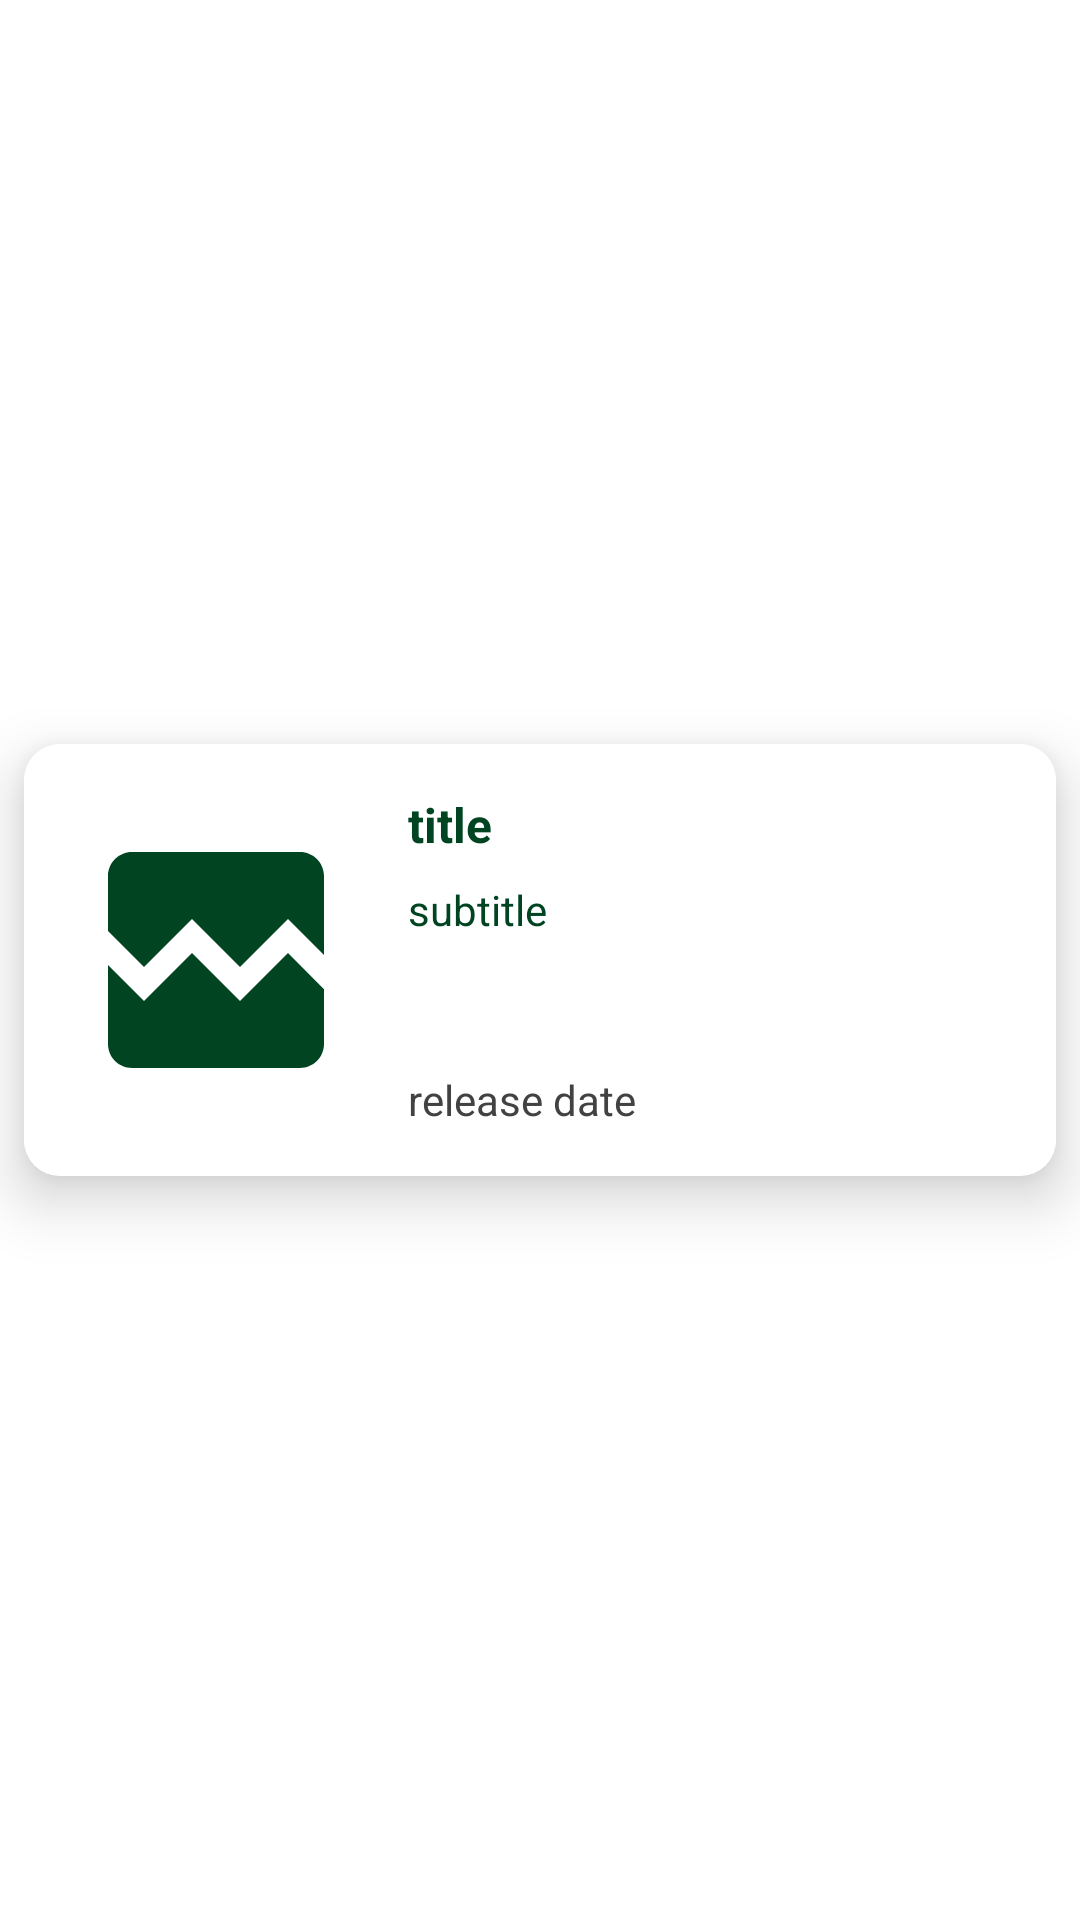

Point at icon controls on the screen. Image size 1080px x 1920px, points as point (x, y).
broken: point (216, 960)
